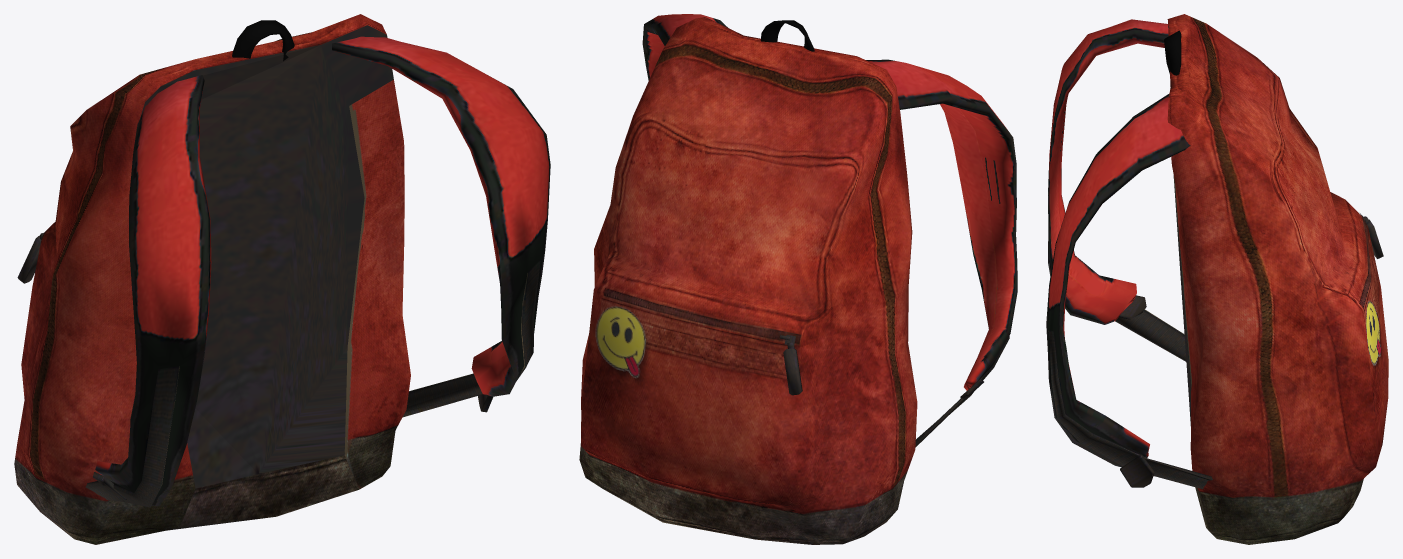
File: Backpack.FBX
3 views of the same model, side by side, from view 1: azimuth 30°, elevation 25°; view 2: azimuth 150°, elevation 25°; view 3: azimuth 270°, elevation 25° (orthographic). The views are drawn at different scales.
Parts seen in each view (by area): view 1: backpack; view 2: backpack; view 3: backpack.
Part boxes in pixels (box(x1,y1,x2,y2)): backpack: box(14, 14, 550, 544); backpack: box(579, 14, 1017, 544); backpack: box(1046, 14, 1388, 544).
Size of the model in its own units: 323 by 385 by 259.
Materials: 1 (1 with a texture image).
